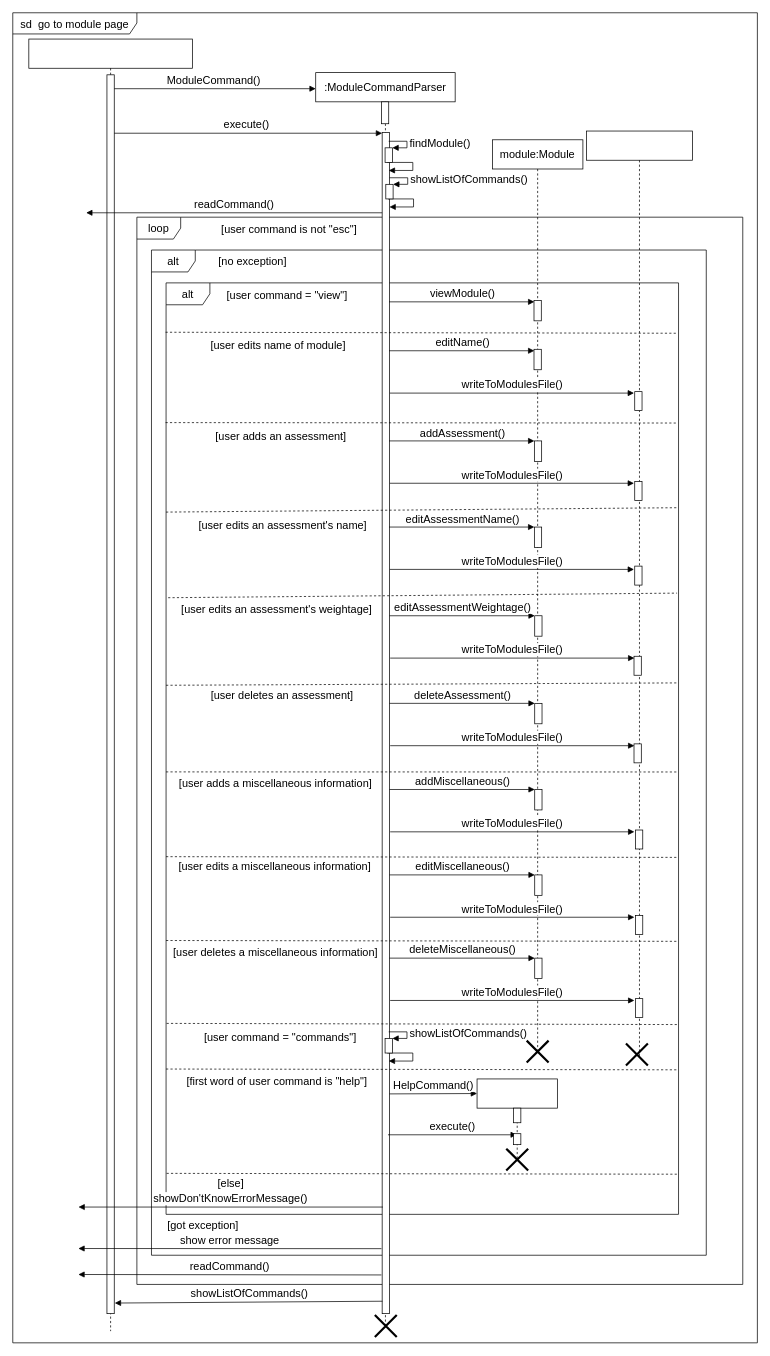
Image size: 770x1356. Some labels were removed from this diagram. Each missing label, with the box of its shape:
:GeneralNoteCommandParser: (28, 38, 192, 1331)
:HelpCommand: (476, 1078, 557, 1159)
:NotePageStorage: (586, 130, 692, 1058)
